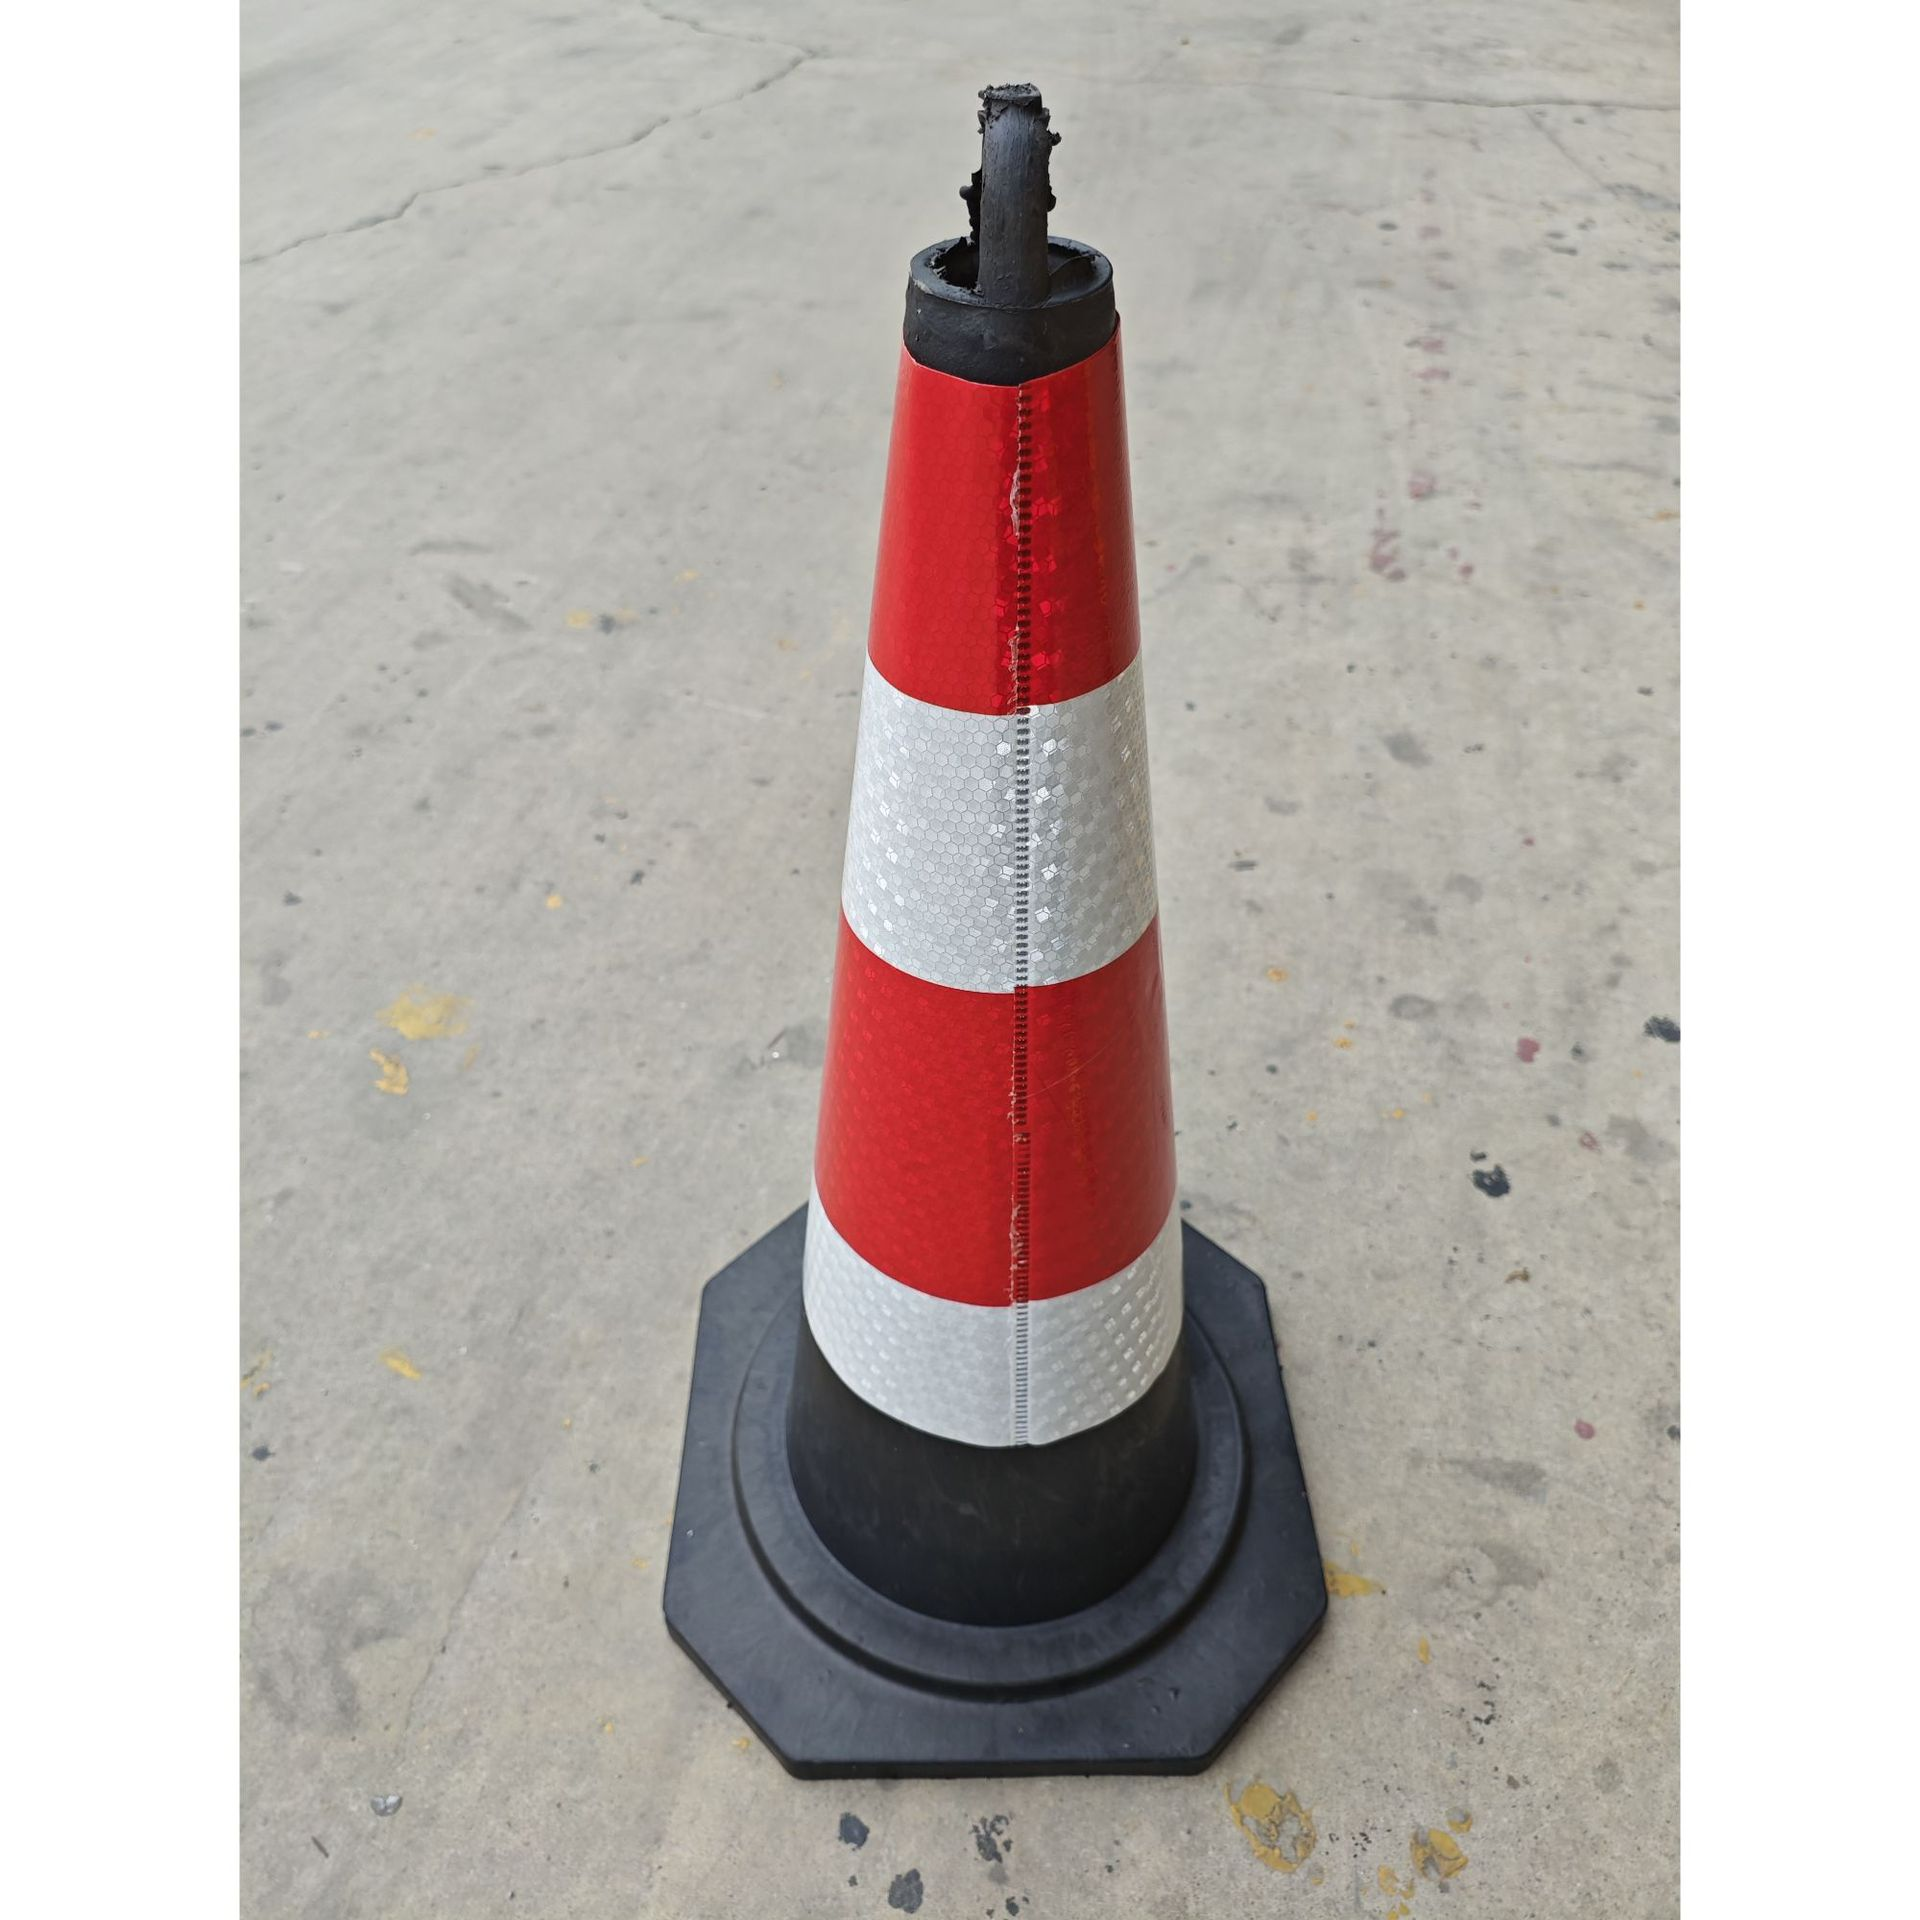traffic_cone: (593, 56, 1371, 1822)
